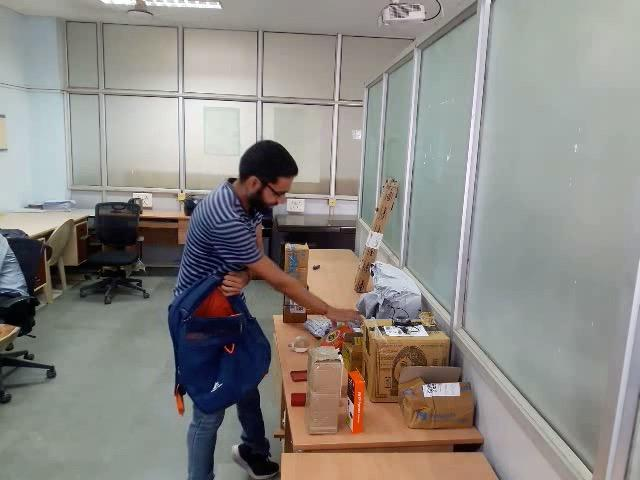shoplifting: (150, 222, 406, 454)
